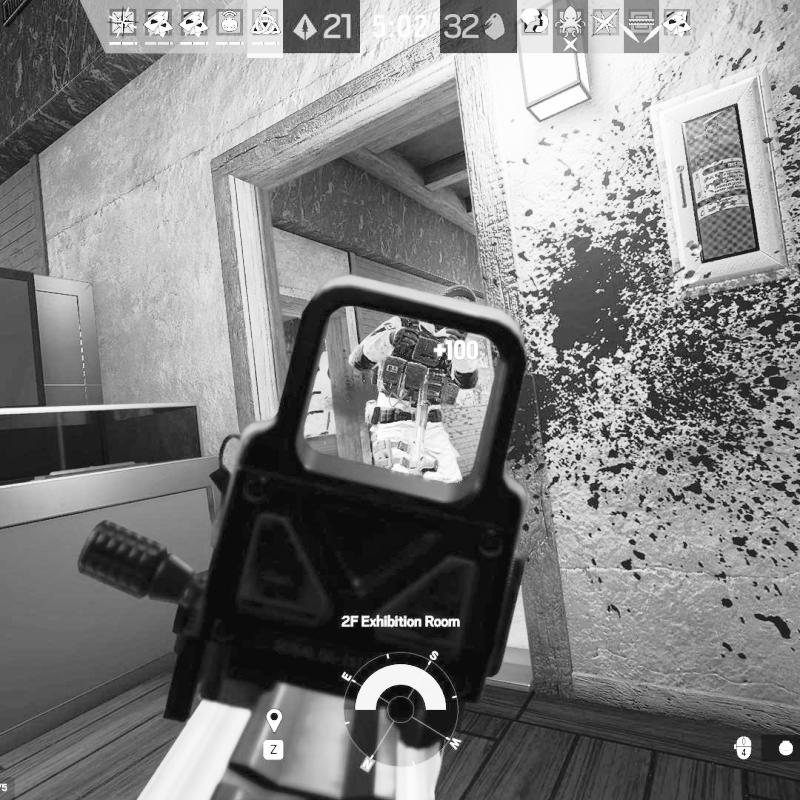Character: (346, 282, 481, 493)
Head: (439, 283, 478, 302)
